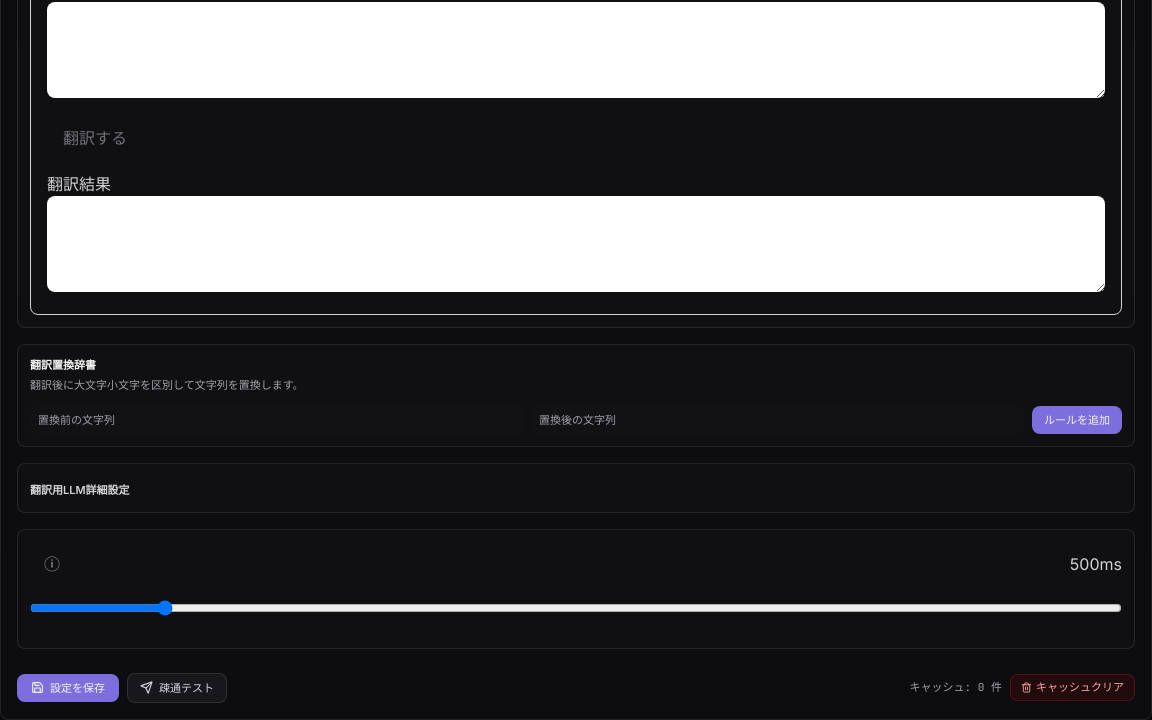
Test case: Settings autosave integration › [REQ-381/AC-7] waits for a mobile range release before sending the translation debounce value
(page scrolled)
Set the slider with id "translation-debounce" to "750" at (323,608), box x1=30 y1=586 x2=1122 y2=630
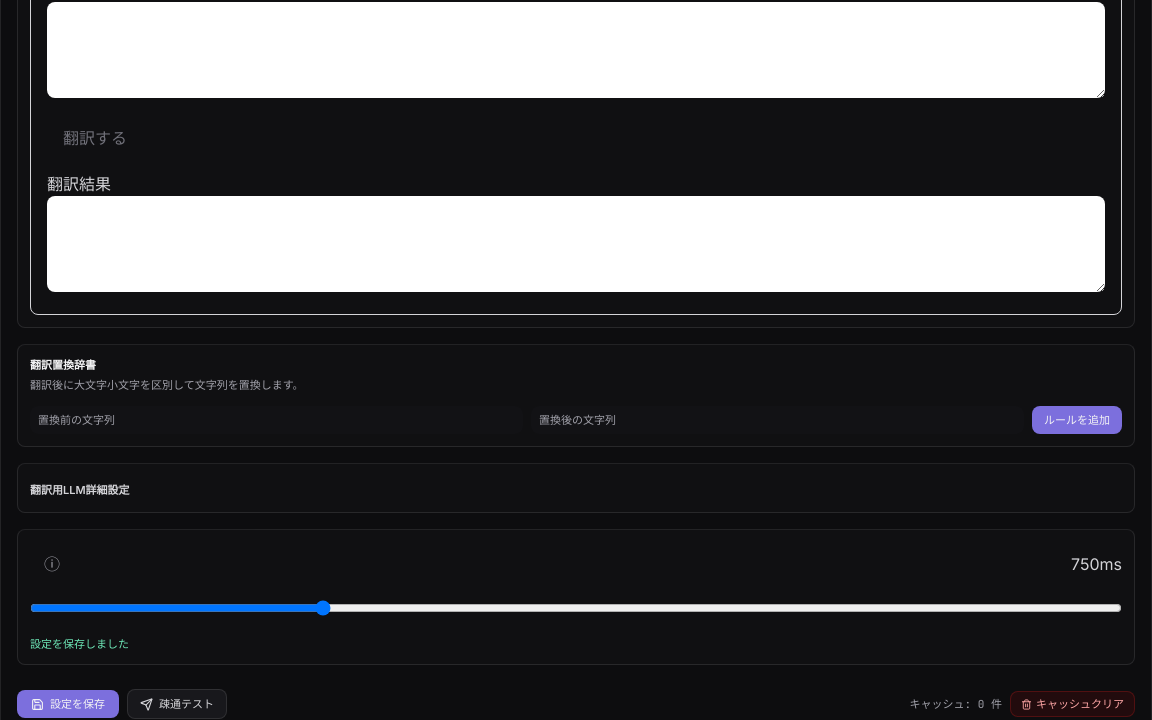
Result: the text "750ms" is shown at x1=1071 y1=552 x2=1122 y2=576
